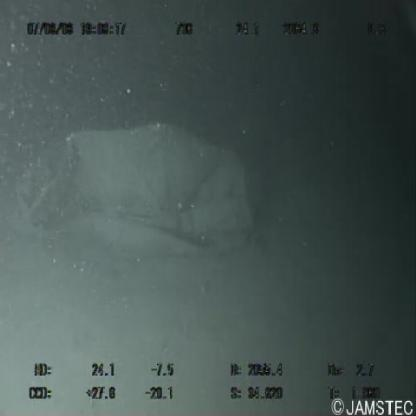Rác: (10, 116, 266, 280)
